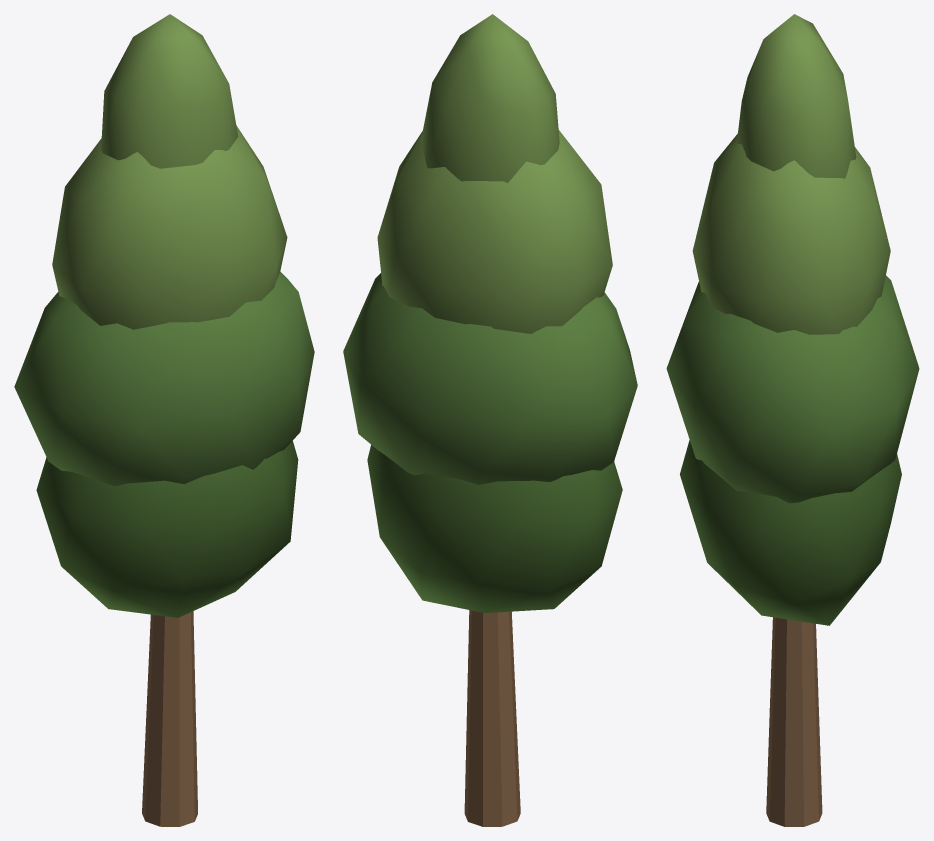
File: valley_poplar.glb
3 renders of one model, left to right at view 1: azimuth 30°, elevation 25°; view 2: azimuth 150°, elevation 25°; view 3: azimuth 270°, elevation 25°, orthographic.
Parts seen in each view (by area): view 1: valley_poplar; view 2: valley_poplar; view 3: valley_poplar.
Part boxes in pixels (x1,y1,x2,y2): valley_poplar: (14,14,314,826); valley_poplar: (343,14,637,826); valley_poplar: (666,14,919,826).
Size of the model in its own units: 2.36 by 6.82 by 1.95.
